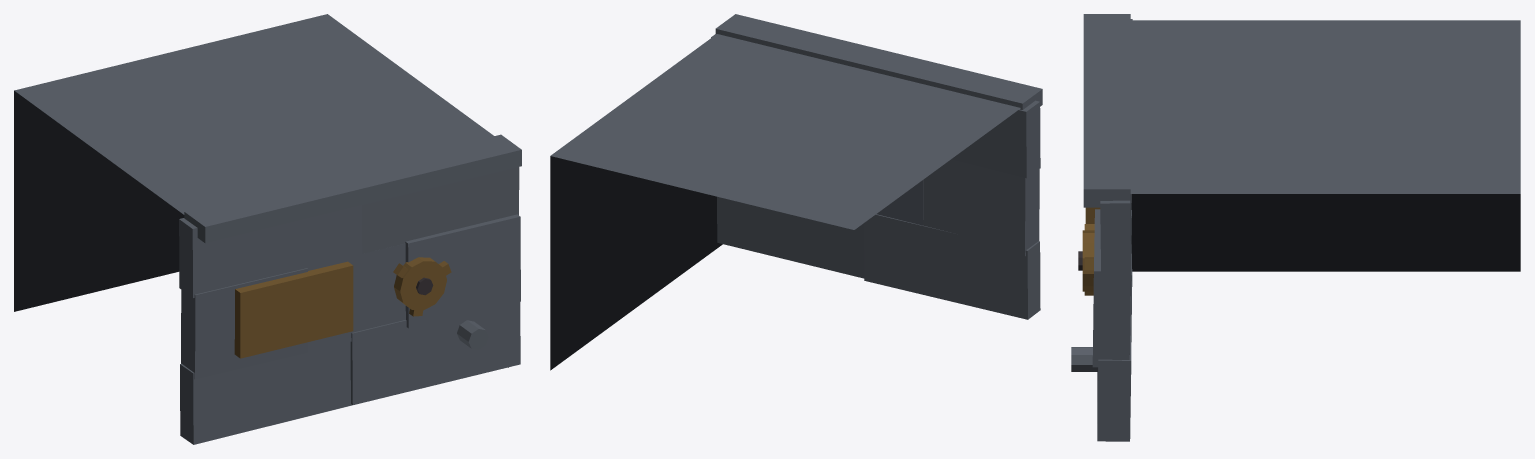
Rendered from SM_Terrain_Dvergr_08_Cliff.glb.
3 renders of one model, left to right at view 1: azimuth 30°, elevation 25°; view 2: azimuth 150°, elevation 25°; view 3: azimuth 270°, elevation 25°, orthographic. The views are drawn at different scales.
Visible parts, largest first — view 1: SM_Terrain_Dvergr_08_Cliff_Deck, SM_Terrain_Dvergr_08_Cliff_Lip, SM_Terrain_Dvergr_08_Cliff_Plate00, SM_Terrain_Dvergr_08_Cliff_Plate01, SM_Terrain_Dvergr_08_Cliff_Plate20, SM_Terrain_Dvergr_08_Cliff_Brass, SM_Terrain_Dvergr_08_Cliff_Plate12, SM_Terrain_Dvergr_08_Cliff_Plate21, SM_Terrain_Dvergr_08_Cliff_Plate10, SM_Terrain_Dvergr_08_Cliff_Plate11, SM_Terrain_Dvergr_08_Cliff_Gear, SM_Terrain_Dvergr_08_Cliff_Pipe; view 2: SM_Terrain_Dvergr_08_Cliff_Deck, SM_Terrain_Dvergr_08_Cliff_Plate00, SM_Terrain_Dvergr_08_Cliff_Plate10, SM_Terrain_Dvergr_08_Cliff_Lip, SM_Terrain_Dvergr_08_Cliff_Plate01, SM_Terrain_Dvergr_08_Cliff_Plate20, SM_Terrain_Dvergr_08_Cliff_Plate11; view 3: SM_Terrain_Dvergr_08_Cliff_Deck, SM_Terrain_Dvergr_08_Cliff_Lip, SM_Terrain_Dvergr_08_Cliff_Plate12, SM_Terrain_Dvergr_08_Cliff_Plate01, SM_Terrain_Dvergr_08_Cliff_Plate21, SM_Terrain_Dvergr_08_Cliff_Gear, SM_Terrain_Dvergr_08_Cliff_Pipe.
Boxes of the visible parts, <box> form: SM_Terrain_Dvergr_08_Cliff_Deck: <box>14,14,508,367</box>; SM_Terrain_Dvergr_08_Cliff_Lip: <box>184,134,521,243</box>; SM_Terrain_Dvergr_08_Cliff_Plate00: <box>180,342,352,444</box>; SM_Terrain_Dvergr_08_Cliff_Plate01: <box>350,302,520,404</box>; SM_Terrain_Dvergr_08_Cliff_Plate20: <box>179,205,362,297</box>; SM_Terrain_Dvergr_08_Cliff_Brass: <box>234,261,353,358</box>; SM_Terrain_Dvergr_08_Cliff_Plate12: <box>405,214,520,328</box>; SM_Terrain_Dvergr_08_Cliff_Plate21: <box>362,167,519,253</box>; SM_Terrain_Dvergr_08_Cliff_Plate10: <box>181,268,307,379</box>; SM_Terrain_Dvergr_08_Cliff_Plate11: <box>307,243,405,351</box>; SM_Terrain_Dvergr_08_Cliff_Gear: <box>394,257,446,310</box>; SM_Terrain_Dvergr_08_Cliff_Pipe: <box>457,320,488,349</box>; SM_Terrain_Dvergr_08_Cliff_Deck: <box>550,34,1020,370</box>; SM_Terrain_Dvergr_08_Cliff_Plate00: <box>864,214,1040,319</box>; SM_Terrain_Dvergr_08_Cliff_Plate10: <box>923,159,1039,256</box>; SM_Terrain_Dvergr_08_Cliff_Lip: <box>715,14,1042,109</box>; SM_Terrain_Dvergr_08_Cliff_Plate01: <box>717,196,864,278</box>; SM_Terrain_Dvergr_08_Cliff_Plate20: <box>951,100,1040,178</box>; SM_Terrain_Dvergr_08_Cliff_Plate11: <box>876,179,923,225</box>; SM_Terrain_Dvergr_08_Cliff_Deck: <box>1130,20,1520,271</box>; SM_Terrain_Dvergr_08_Cliff_Lip: <box>1083,14,1130,207</box>; SM_Terrain_Dvergr_08_Cliff_Plate12: <box>1092,209,1131,367</box>; SM_Terrain_Dvergr_08_Cliff_Plate01: <box>1097,281,1131,441</box>; SM_Terrain_Dvergr_08_Cliff_Plate21: <box>1100,194,1131,281</box>; SM_Terrain_Dvergr_08_Cliff_Gear: <box>1082,230,1094,291</box>; SM_Terrain_Dvergr_08_Cliff_Pipe: <box>1071,347,1097,371</box>.
Size of the model in its own units: 2.08 by 1.38 by 2.19.
